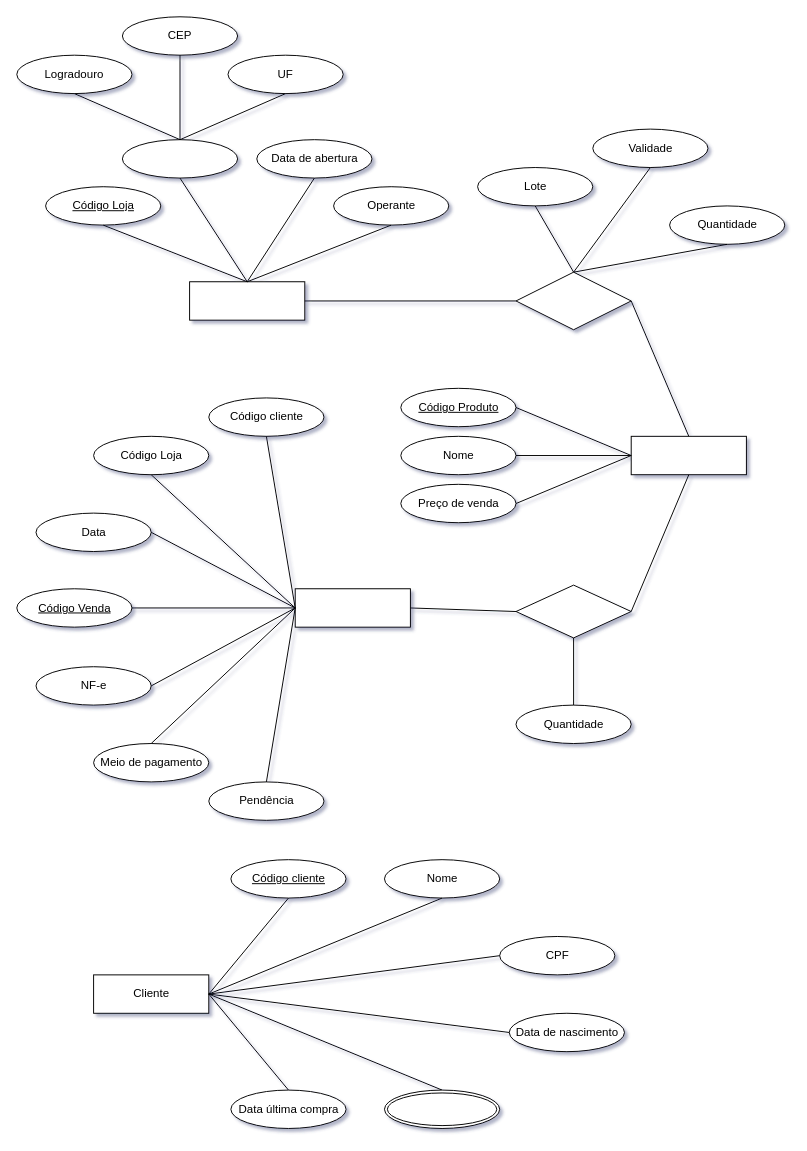
Some shapes in this 807 by 1151 pixel diagram are drawn without their labels. Here are the shapes that lost their labels. From the top down, the centre of each, then its label:
the point at 179,158: Local
the point at 247,300: Loja
the point at 573,300: Estoque
the point at 688,455: Produto
the point at 352,607: Venda
the point at 573,611: Operação
the point at 442,1108: Telefone
